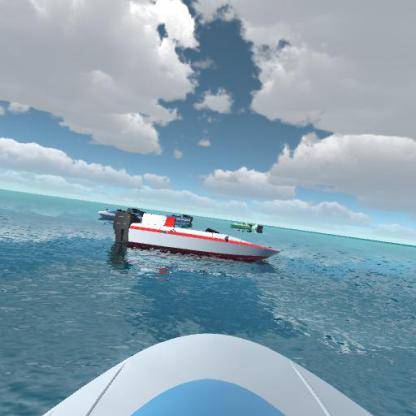usv0: (228, 216, 255, 235), (250, 220, 264, 232)
usv1: (97, 200, 151, 225), (161, 205, 195, 228)
usv3: (114, 211, 280, 270)
